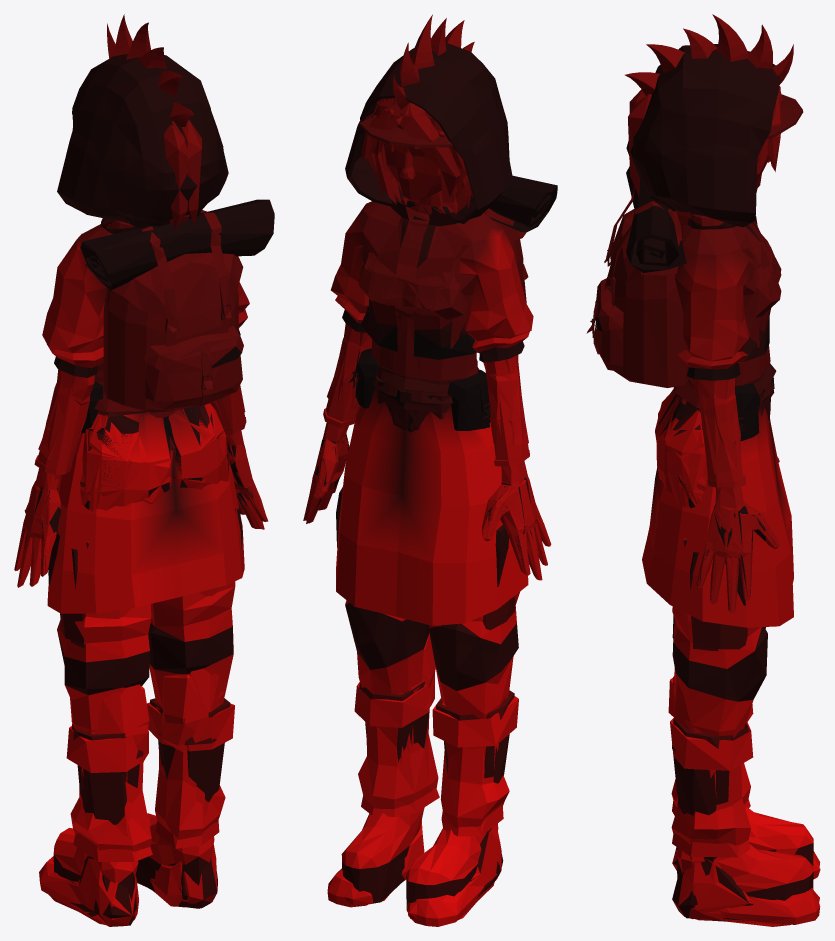
Rendered from women.glb.
3 renders of one model, left to right at view 1: azimuth 30°, elevation 25°; view 2: azimuth 150°, elevation 25°; view 3: azimuth 270°, elevation 25°, orthographic. The views are drawn at different scales.
Visible parts, largest first — view 1: Outfit5_Top, Outfit1_Legs, Hat2, Outfit7_Legs, Outfit3_Legs, Outfit7_Feet, Outfit6_Top, Outfit4_Feet, Outfit0_Legs, Outfit5_Legs, Outfit5_Feet, Outfit2_Legs (+11 smaller); view 2: Outfit1_Legs, Outfit6_Top, Outfit7_Legs, Hat2, Outfit5_Top, Outfit3_Legs, Outfit4_Feet, Outfit7_Feet, Outfit2_Top, Outfit4_Top, Outfit7_Top, Outfit0_Top (+15 smaller); view 3: Hat2, Outfit5_Top, Outfit1_Legs, Outfit6_Top, Outfit7_Legs, Outfit3_Legs, Outfit4_Feet, Outfit7_Feet, Hair4, Outfit0_Top, Outfit5_Feet, Outfit5_Legs (+12 smaller).
Boxes of the visible parts, x1,y1,x2,y2 form: Outfit5_Top: (17,199,274,586); Outfit1_Legs: (47,412,244,613); Hat2: (57,54,228,227); Outfit7_Legs: (48,410,242,732); Outfit3_Legs: (60,404,228,851); Outfit7_Feet: (66,702,234,926); Outfit6_Top: (16,210,261,586); Outfit4_Feet: (53,706,214,925); Outfit0_Legs: (80,406,227,506); Outfit5_Legs: (81,381,235,548); Outfit5_Feet: (68,698,230,926); Outfit2_Legs: (73,403,220,861); Outfit1_Legs: (336,387,528,625); Outfit6_Top: (306,200,545,577); Outfit7_Legs: (336,376,519,718); Hat2: (345,43,512,223); Outfit5_Top: (306,175,557,579); Outfit3_Legs: (358,389,515,828); Outfit4_Feet: (341,686,498,911); Outfit7_Feet: (354,682,518,898); Outfit2_Top: (312,206,543,560); Outfit4_Top: (307,204,550,575); Outfit7_Top: (309,195,533,538); Outfit0_Top: (303,205,550,580); Hat2: (626,44,779,227); Outfit5_Top: (586,166,781,612); Outfit1_Legs: (642,407,793,627); Outfit6_Top: (675,218,776,612); Outfit7_Legs: (663,388,774,737); Outfit3_Legs: (664,391,766,845); Outfit4_Feet: (676,807,813,900); Outfit7_Feet: (668,677,753,920); Hair4: (625,14,793,95); Outfit0_Top: (696,270,778,613); Outfit5_Feet: (672,676,765,922); Outfit5_Legs: (655,383,766,546).
Size of the model in its own units: 0.5503 by 1.93 by 0.4643.
